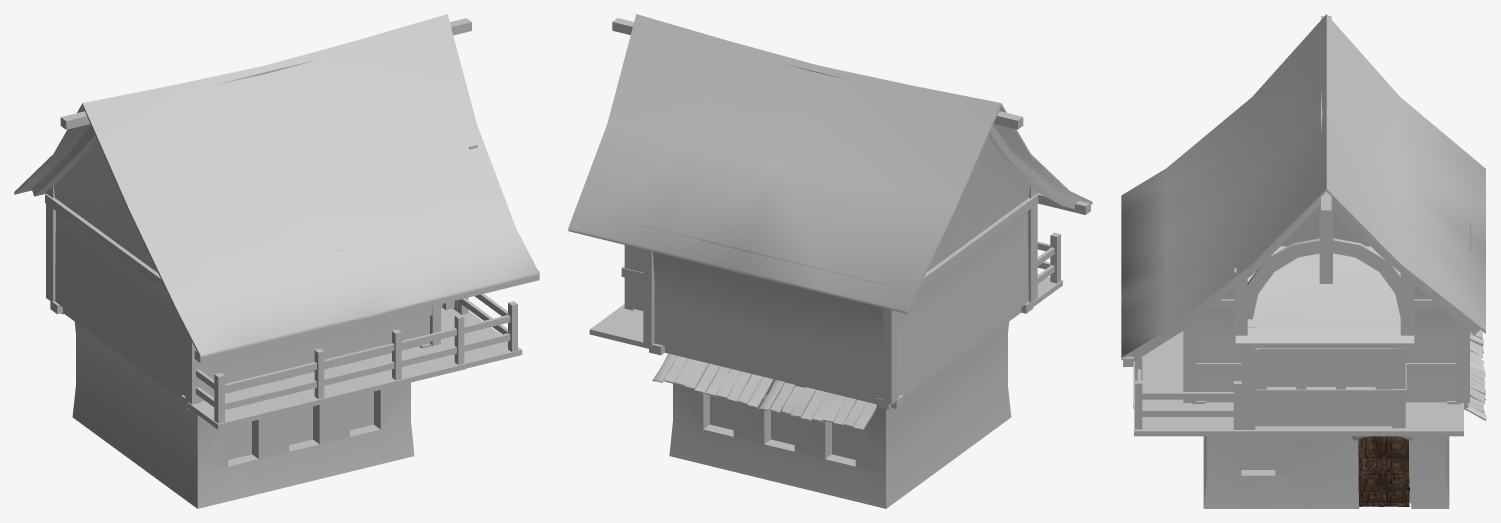
The model's file is fantasy_house4_lod.fbx.
3 views of the same model, side by side, from view 1: azimuth 30°, elevation 25°; view 2: azimuth 150°, elevation 25°; view 3: azimuth 270°, elevation 25° (orthographic).
Parts seen in each view (by area): view 1: Mesh Object; view 2: Mesh Object; view 3: Mesh Object.
Part boxes in pixels (<box>): Mesh Object: <box>14,14,539,508</box>; Mesh Object: <box>568,14,1092,508</box>; Mesh Object: <box>1121,14,1486,508</box>.
Bounding box in the file's own units: 11.23 × 9.86 × 8.93.
